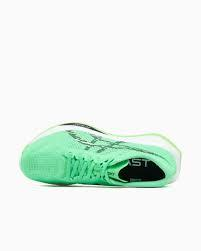asics logo: (58, 128, 172, 167)
